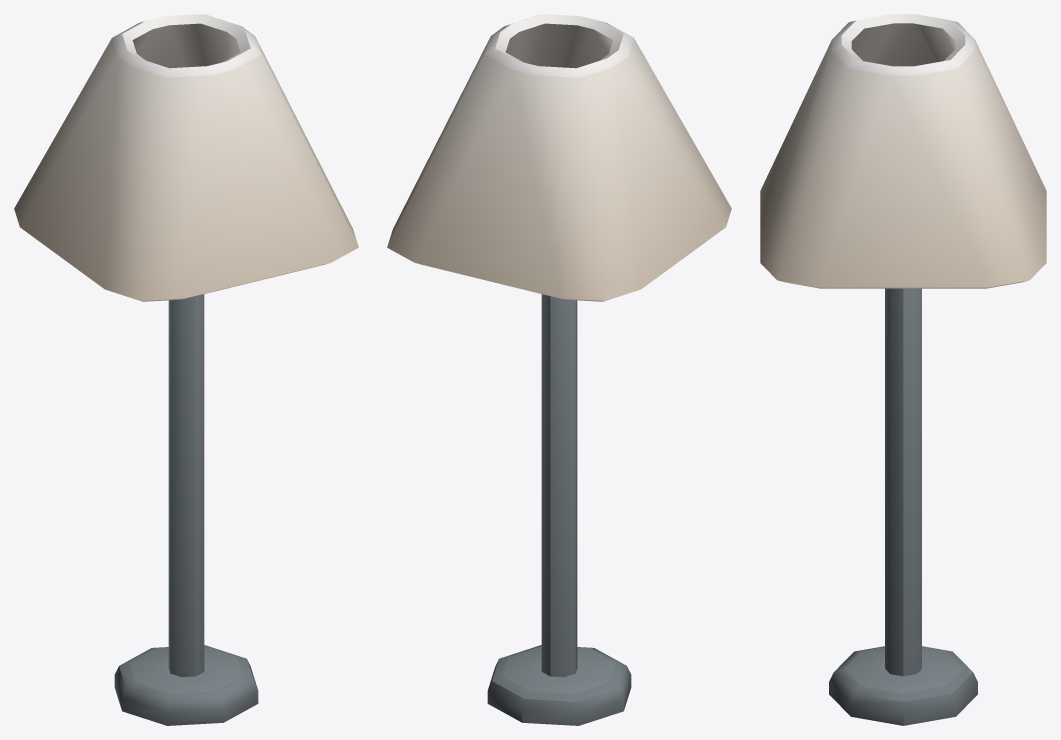
The model's file is standing-lamp.glb.
The picture shows the model from 3 angles, left to right: view 1: azimuth 30°, elevation 25°; view 2: azimuth 150°, elevation 25°; view 3: azimuth 270°, elevation 25°; orthographic projection.
Parts seen in each view (by area): view 1: lamp_standing; view 2: lamp_standing; view 3: lamp_standing.
Part boxes in pixels (left/top/right/bottom): lamp_standing: left=14, top=14, right=358, bottom=725; lamp_standing: left=387, top=14, right=731, bottom=725; lamp_standing: left=760, top=14, right=1046, bottom=725.
Bounding box in the file's own units: 1 × 2.52 × 1.
1 material, 1 textured.
